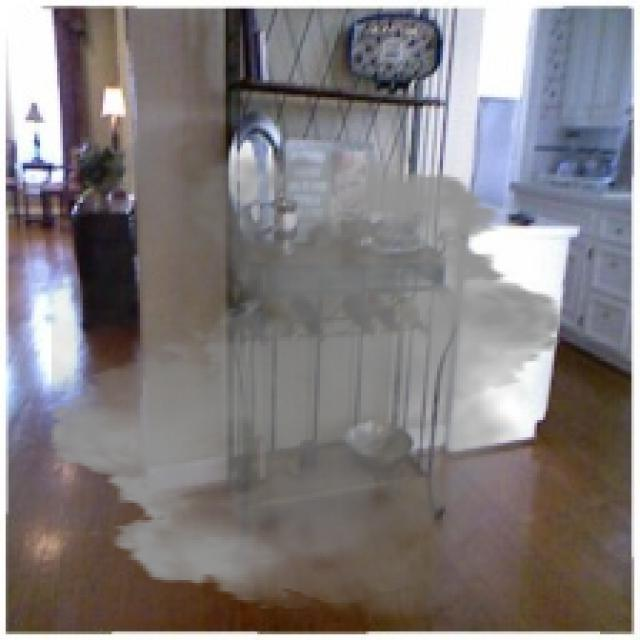Smoke: (31, 111, 580, 632)
